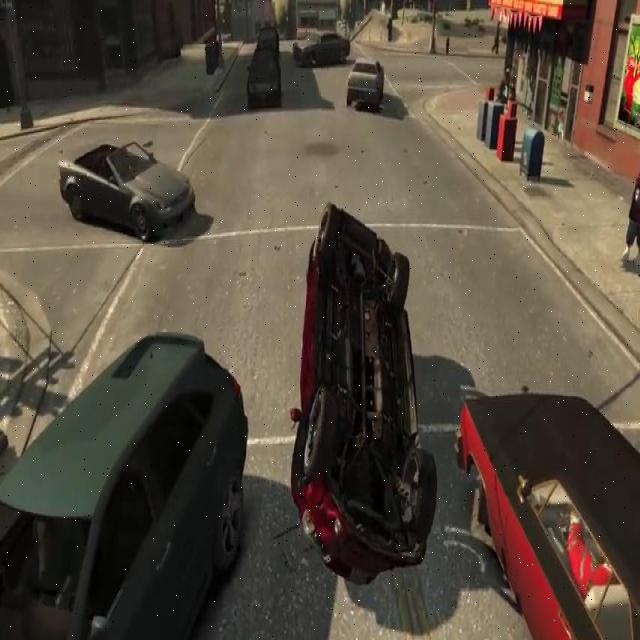severe: (287, 198, 442, 590)
